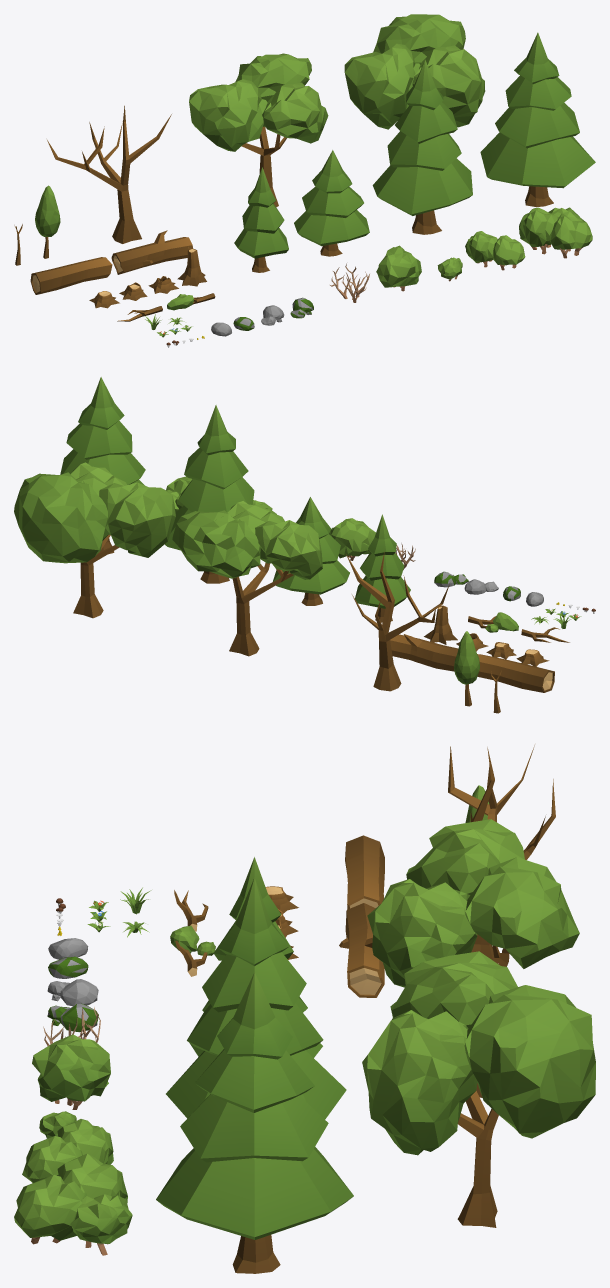
Rendered from forest_nature_set_all_in.glb.
The picture shows the model from 3 angles, top to bottom: view 1: azimuth 30°, elevation 25°; view 2: azimuth 150°, elevation 25°; view 3: azimuth 270°, elevation 25°; orthographic projection. The views are drawn at different scales.
Parts seen in each view (by area): view 1: Tree_average_lush, Tree_Spruce_small_02, Tree_average_regular, Tree_Spruce_small_01, Tree_Spruce_tiny_02, Tree_Spruce_tiny_01, Tree_average_bare, Bush_group_big, Log_big_knotty, Log_big_regular, Bush_group_average, Bush_average (+4 smaller); view 2: Tree_average_lush, Tree_average_regular, Tree_Spruce_small_01, Tree_Spruce_small_02, Tree_Spruce_tiny_02, Tree_average_bare, Tree_Spruce_tiny_01, Log_big_regular, Log_big_knotty, Bush_average, Tree_small_regular, Stump_average_high (+1 smaller); view 3: Tree_average_lush, Tree_Spruce_small_02, Tree_average_regular, Tree_Spruce_small_01, Bush_group_big, Bush_average, Bush_group_average, Log_big_knotty, Log_big_regular, Tree_average_bare, Tree_Spruce_tiny_01, Branch_average_leaves (+3 smaller).
Part boxes in pixels (x1=…): Tree_average_lush: x1=344, y1=14, x2=485, y2=129; Tree_Spruce_small_02: x1=480, y1=32, x2=595, y2=207; Tree_average_regular: x1=189, y1=53, x2=328, y2=207; Tree_Spruce_small_01: x1=372, y1=60, x2=472, y2=234; Tree_Spruce_tiny_02: x1=294, y1=150, x2=369, y2=256; Tree_Spruce_tiny_01: x1=234, y1=167, x2=288, y2=272; Tree_average_bare: x1=47, y1=105, x2=171, y2=243; Bush_group_big: x1=519, y1=207, x2=592, y2=258; Log_big_knotty: x1=111, y1=230, x2=192, y2=274; Log_big_regular: x1=30, y1=257, x2=112, y2=294; Bush_group_average: x1=465, y1=231, x2=525, y2=270; Bush_average: x1=376, y1=245, x2=421, y2=291; Tree_average_lush: x1=14, y1=462, x2=175, y2=618; Tree_average_regular: x1=172, y1=501, x2=322, y2=656; Tree_Spruce_small_01: x1=165, y1=405, x2=254, y2=583; Tree_Spruce_small_02: x1=60, y1=377, x2=145, y2=554; Tree_Spruce_tiny_02: x1=273, y1=497, x2=349, y2=605; Tree_average_bare: x1=346, y1=552, x2=449, y2=691; Tree_Spruce_tiny_01: x1=355, y1=514, x2=410, y2=622; Log_big_regular: x1=477, y1=654, x2=554, y2=692; Log_big_knotty: x1=390, y1=634, x2=458, y2=671; Bush_average: x1=329, y1=518, x2=375, y2=560; Tree_small_regular: x1=454, y1=631, x2=479, y2=706; Stump_average_high: x1=424, y1=605, x2=457, y2=644; Tree_average_lush: x1=362, y1=951, x2=595, y2=1227; Tree_Spruce_small_02: x1=156, y1=972, x2=353, y2=1273; Tree_average_regular: x1=367, y1=819, x2=579, y2=1097; Tree_Spruce_small_01: x1=166, y1=877, x2=346, y2=1119; Bush_group_big: x1=14, y1=1153, x2=132, y2=1255; Bush_average: x1=32, y1=1034, x2=110, y2=1109; Bush_group_average: x1=22, y1=1119, x2=113, y2=1182; Log_big_knotty: x1=339, y1=903, x2=384, y2=997; Log_big_regular: x1=345, y1=835, x2=384, y2=909; Tree_average_bare: x1=448, y1=745, x2=555, y2=964; Tree_Spruce_tiny_01: x1=213, y1=857, x2=293, y2=960; Branch_average_leaves: x1=170, y1=925, x2=215, y2=976.
Size of the model in its own units: 58.41 by 18.32 by 32.95.
Materials: 1 (1 with a texture image).
